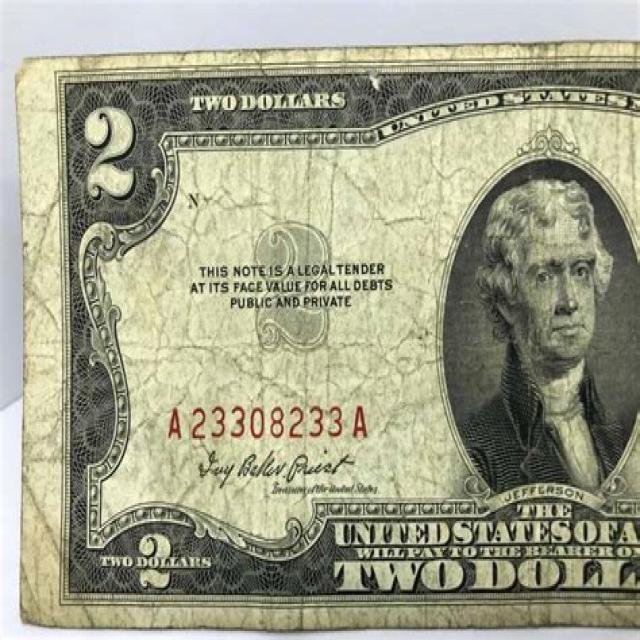Two: (22, 39, 640, 626)
